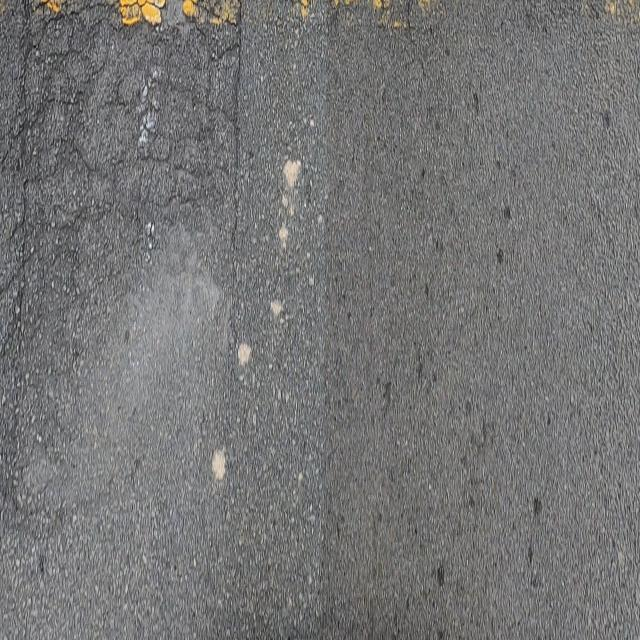Retak-Buaya: (1, 0, 251, 511)
